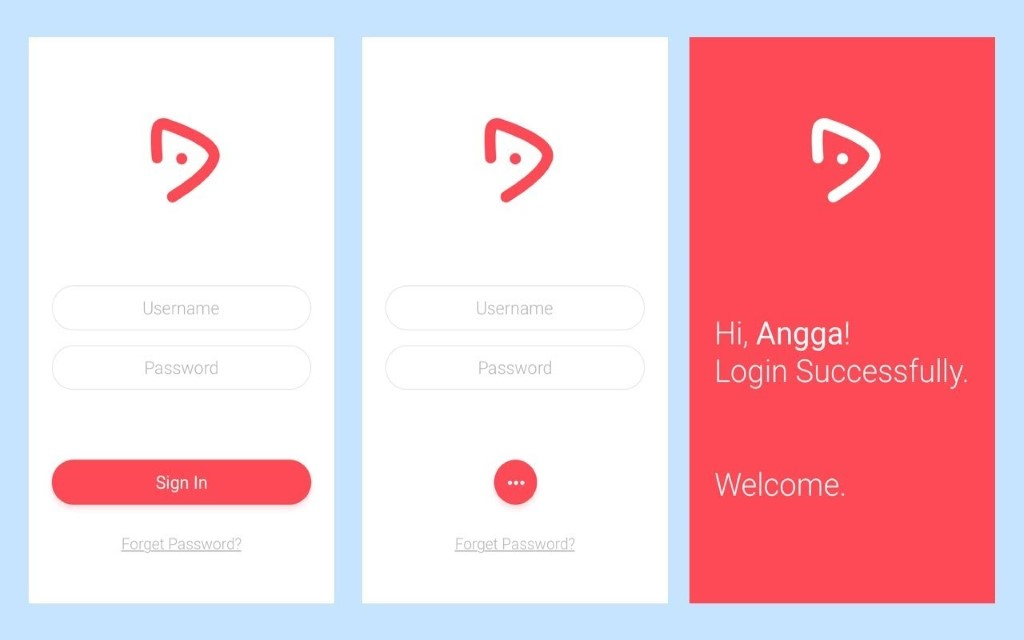button_SignIn: (53, 462, 312, 506)
label_SignIn: (152, 470, 213, 492)
label_Username: (473, 298, 557, 322), (140, 297, 223, 321)
label_password: (476, 357, 555, 379), (141, 358, 223, 378)
textbox: (53, 284, 313, 332), (385, 285, 647, 332), (54, 344, 313, 390), (53, 460, 310, 505), (386, 346, 646, 389)
textbox_Password: (54, 344, 313, 392), (386, 345, 645, 390)
textbox_username: (387, 283, 649, 333), (54, 285, 316, 333)
url: (118, 533, 245, 552)
